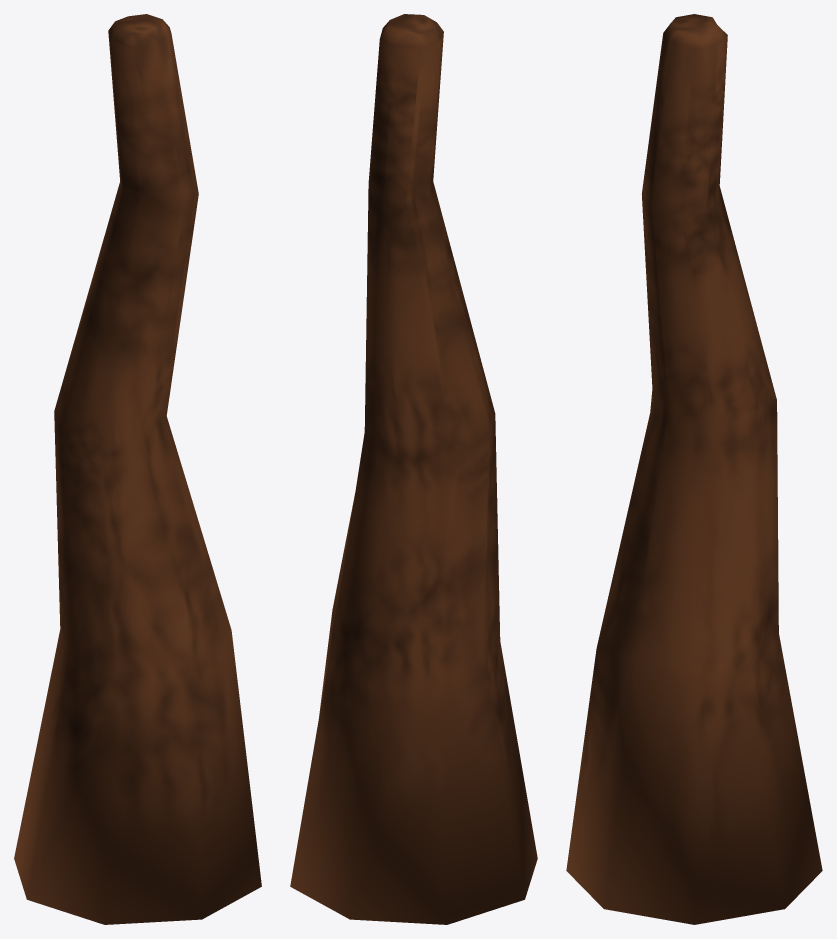
The model's file is Branch_Narrow_01.obj.
The picture shows the model from 3 angles, left to right: view 1: azimuth 30°, elevation 25°; view 2: azimuth 150°, elevation 25°; view 3: azimuth 270°, elevation 25°; orthographic projection.
Visible parts, largest first — view 1: Cylinder.001; view 2: Cylinder.001; view 3: Cylinder.001.
Boxes of the visible parts, bbox=[...] form: Cylinder.001: bbox=[14, 14, 261, 924]; Cylinder.001: bbox=[290, 14, 537, 924]; Cylinder.001: bbox=[566, 14, 822, 924].
Bounding box in the file's own units: 0.4953 × 1.81 × 0.4953.
